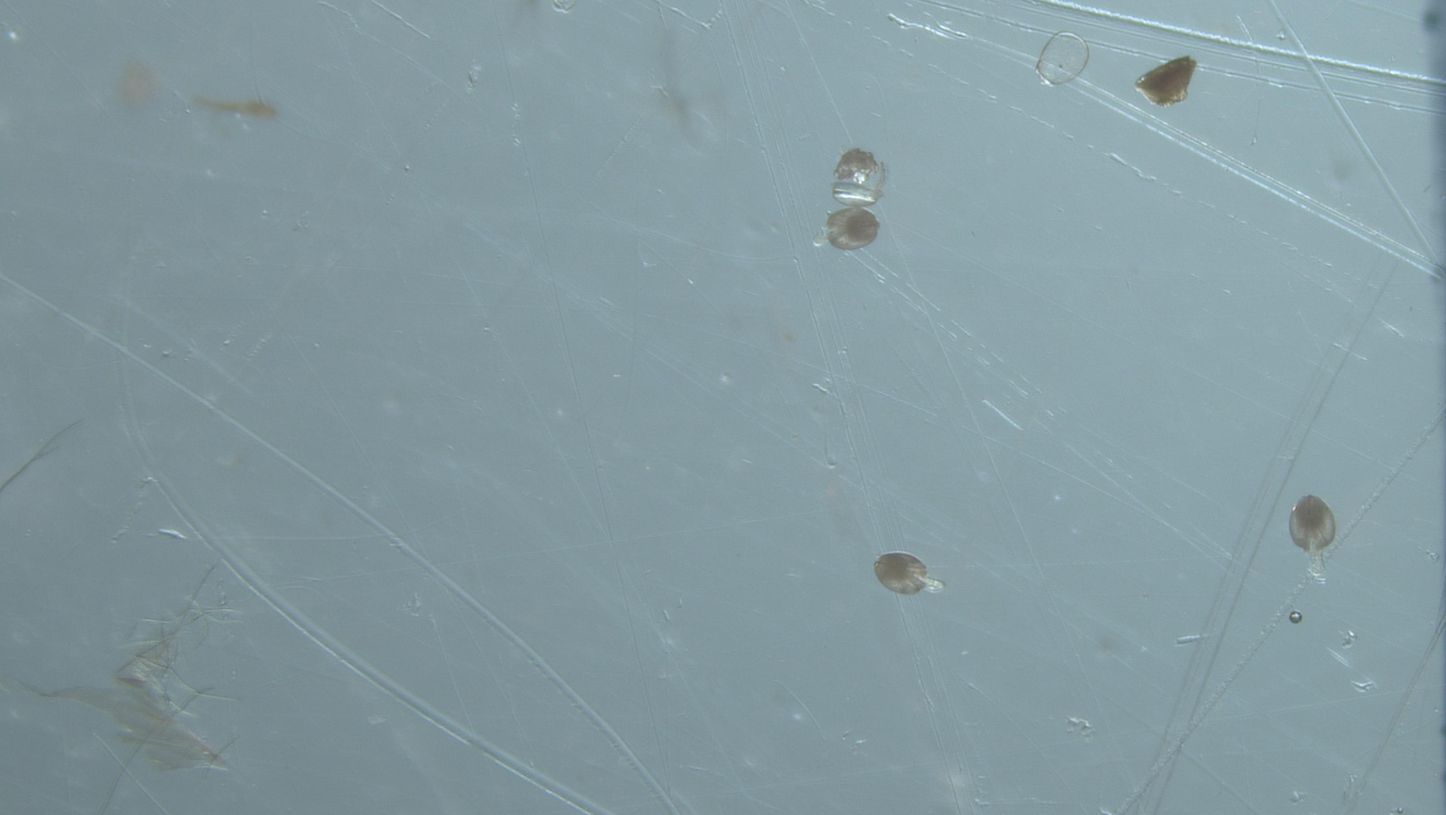dead: (1036, 32, 1090, 85)
live: (1289, 495, 1337, 578), (874, 551, 945, 595), (816, 206, 879, 250)
